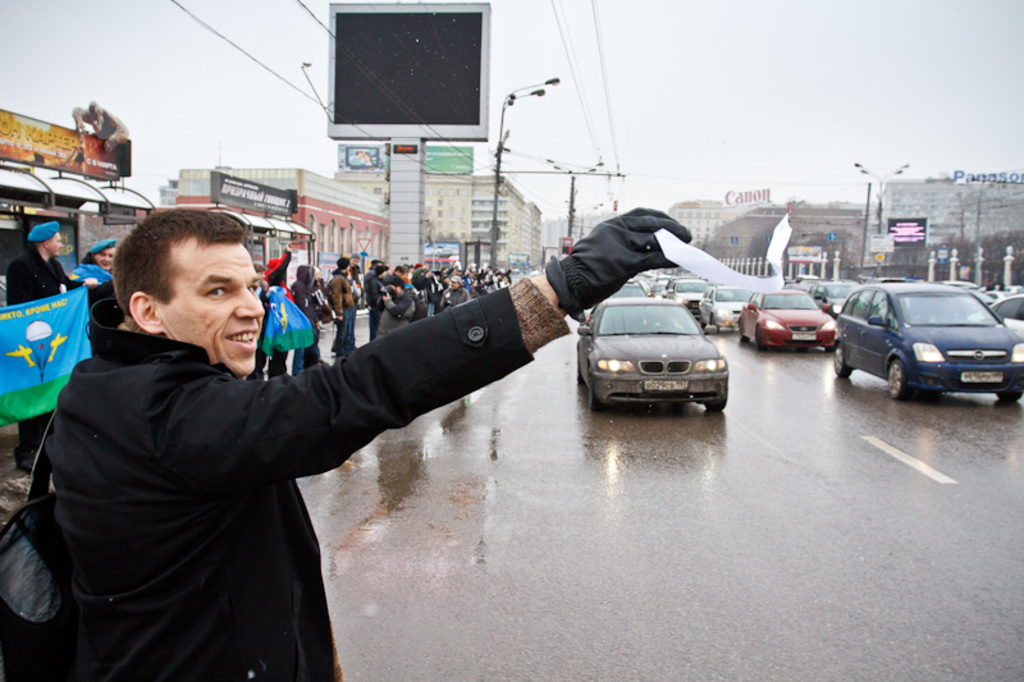Car: (574, 273, 1022, 409)
